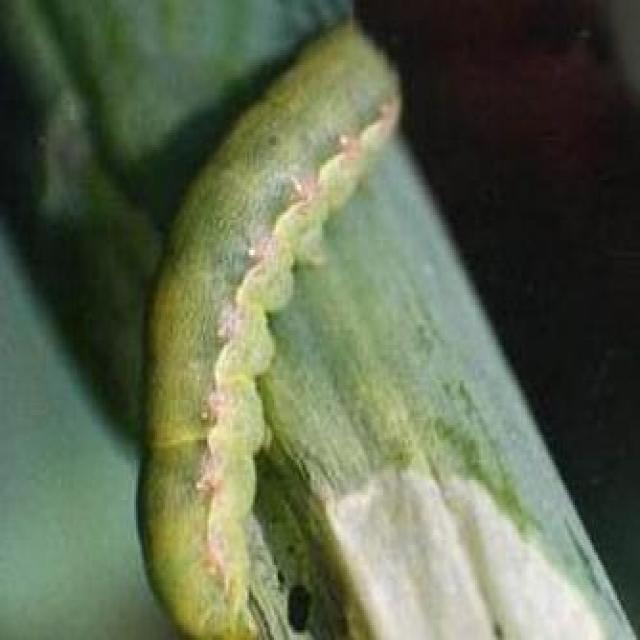BeetArmyWorm-Larva-: (106, 19, 417, 636)
